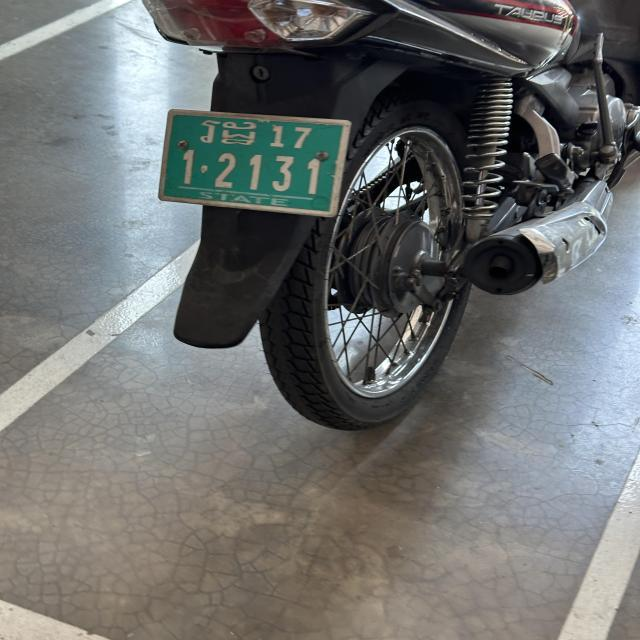State: (198, 118, 259, 146)
